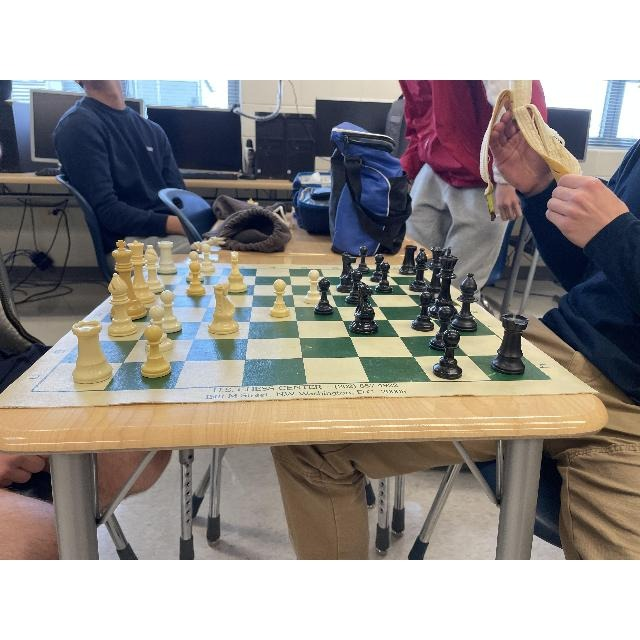black-pawn: (436, 319, 464, 379), (456, 275, 478, 321), (308, 275, 331, 311), (434, 309, 452, 345), (377, 261, 394, 289)
black-rook: (491, 307, 533, 378), (353, 281, 382, 335), (440, 261, 464, 325), (417, 279, 437, 326), (408, 248, 430, 289), (404, 242, 424, 284), (343, 254, 366, 282), (339, 253, 357, 286)
white-bishop: (139, 317, 167, 381)
white-king: (57, 322, 93, 395)
white-pawn: (269, 276, 291, 320)
